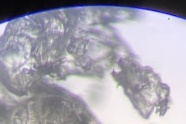microplastic: (1, 4, 141, 97), (1, 81, 104, 124), (109, 57, 170, 119)
